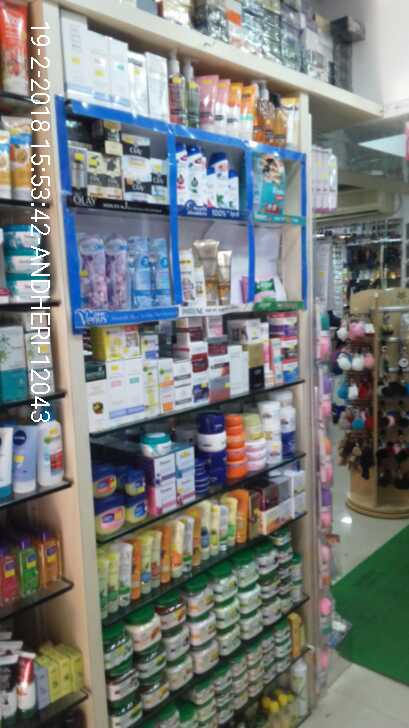venus: (80, 234, 108, 305), (127, 236, 153, 306), (108, 236, 128, 305), (155, 238, 172, 306)
